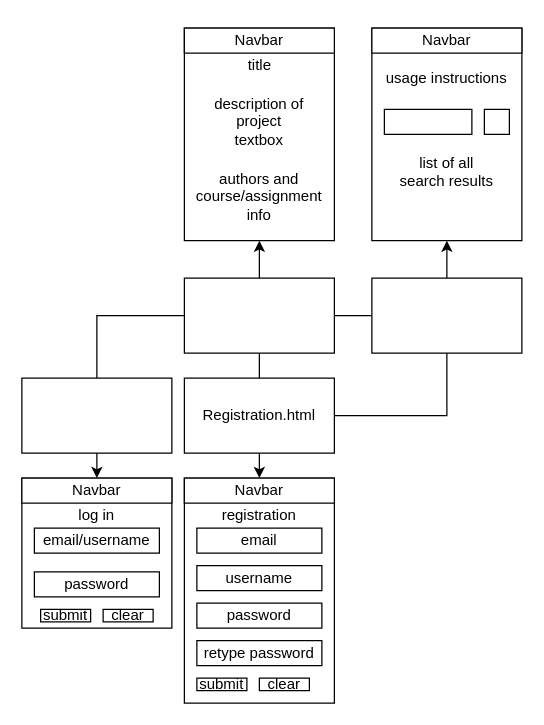
This 544x725 diagram has some shape labels left out. The shapes that lost their labels are listed below. From the top down, each one's centre as x and y in pixels, then its label:
At (x=427, y=121): "search term".
At (x=496, y=121): "search".
At (x=258, y=315): "Index.html".
At (x=446, y=315): "Search.html".
At (x=96, y=415): "login.html".
